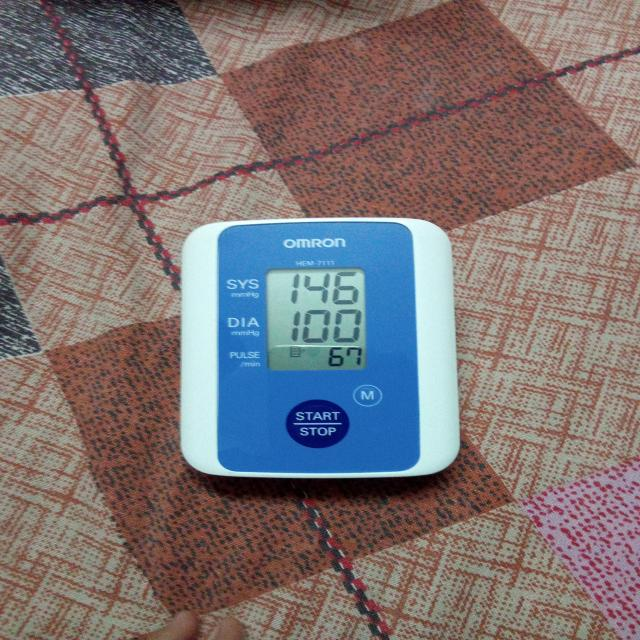display: (265, 265, 369, 373)
frame: (290, 308, 364, 344), (288, 270, 361, 306), (327, 346, 364, 367)
gauge: (176, 215, 462, 480)
